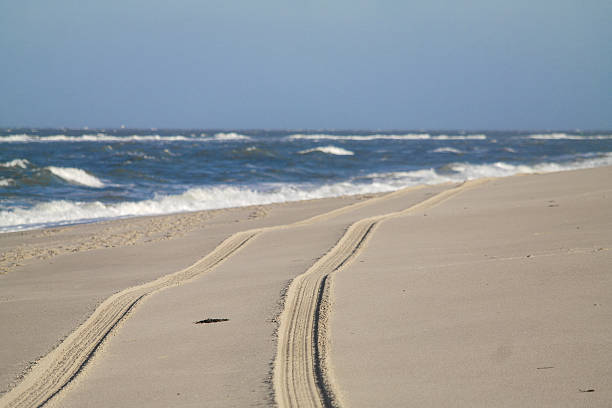vehicle_track: (0, 187, 419, 407), (273, 180, 482, 407)
